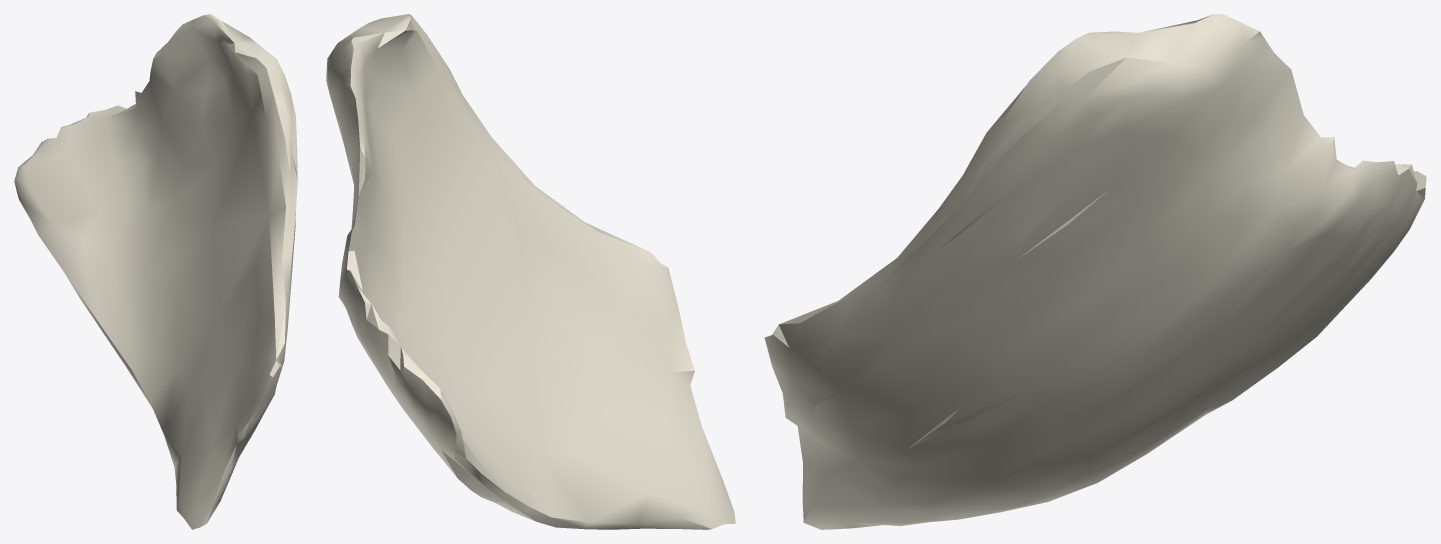
The model's file is fma321703-r_mm1482m.glb.
3 views of the same model, side by side, from view 1: azimuth 30°, elevation 25°; view 2: azimuth 150°, elevation 25°; view 3: azimuth 270°, elevation 25° (orthographic). The views are drawn at different scales.
Parts seen in each view (by area): view 1: FMA321703-R_MM1482M; view 2: FMA321703-R_MM1482M; view 3: FMA321703-R_MM1482M.
Boxes of the visible parts, left/top/right/bottom form: FMA321703-R_MM1482M: left=14, top=14, right=297, bottom=529; FMA321703-R_MM1482M: left=326, top=14, right=735, bottom=529; FMA321703-R_MM1482M: left=764, top=14, right=1426, bottom=529.
Size of the model in its own units: 0.00407 by 0.00863 by 0.0083.
